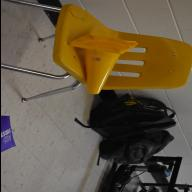cone: (68, 34, 138, 94)
cube: (0, 115, 16, 153)
